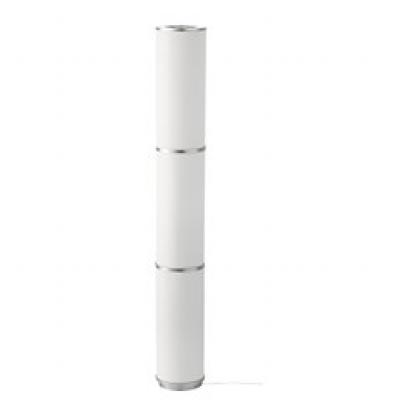Lamp: (127, 17, 220, 396)
